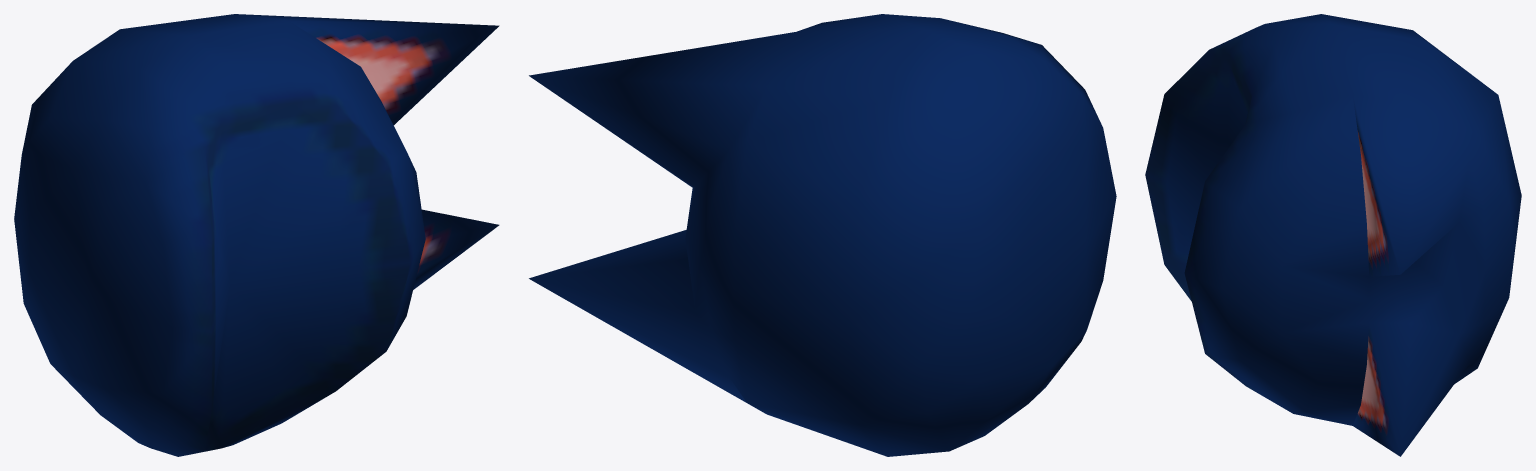
File: hlmt_hood_cat.dae
3 views of the same model, side by side, from view 1: azimuth 30°, elevation 25°; view 2: azimuth 150°, elevation 25°; view 3: azimuth 270°, elevation 25° (orthographic). The views are drawn at different scales.
Parts seen in each view (by area): view 1: hlmt_hood_cat; view 2: hlmt_hood_cat; view 3: hlmt_hood_cat.
Part boxes in pixels (<box>): hlmt_hood_cat: <box>14,14,499,456</box>; hlmt_hood_cat: <box>529,14,1116,456</box>; hlmt_hood_cat: <box>1145,14,1521,456</box>.
Size of the model in its own units: 30.75 by 24.83 by 22.87.
Materials: 1 (1 with a texture image).
